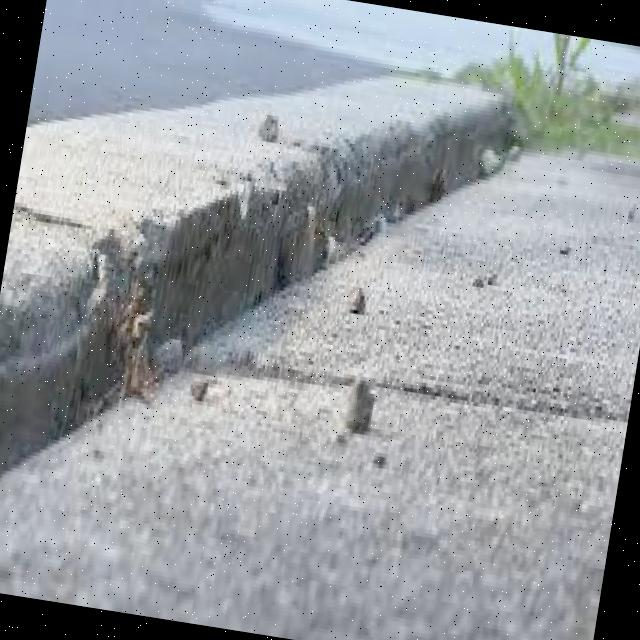curb: (1, 124, 194, 518), (142, 100, 389, 351), (349, 80, 533, 224)
